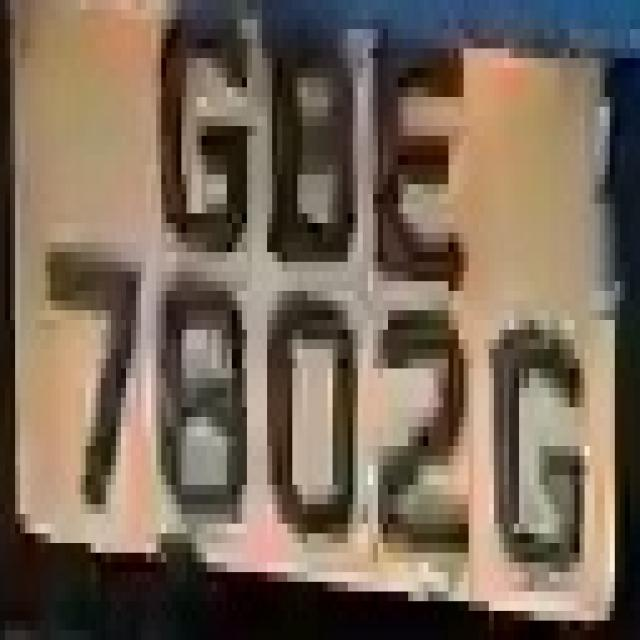0: (247, 282, 368, 562)
2: (373, 272, 474, 592)
7: (35, 204, 141, 504)
8: (146, 262, 257, 543)
B: (257, 20, 363, 282)
E: (362, 10, 468, 291)
G: (478, 300, 594, 592), (141, 19, 262, 262)
